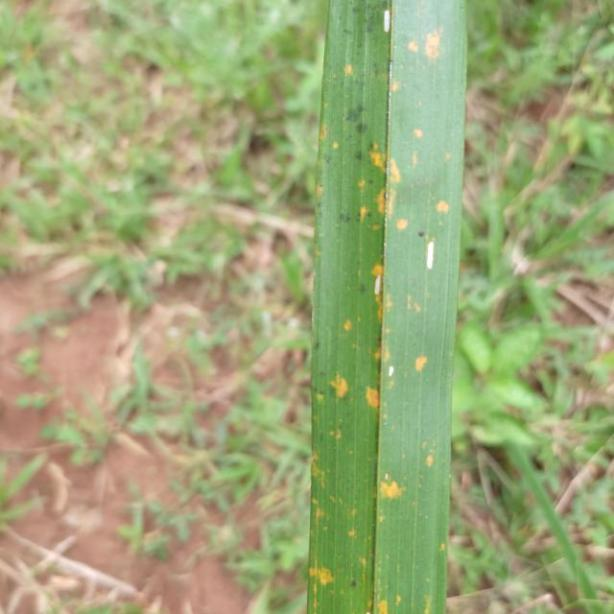Kalium: (307, 0, 473, 614)
